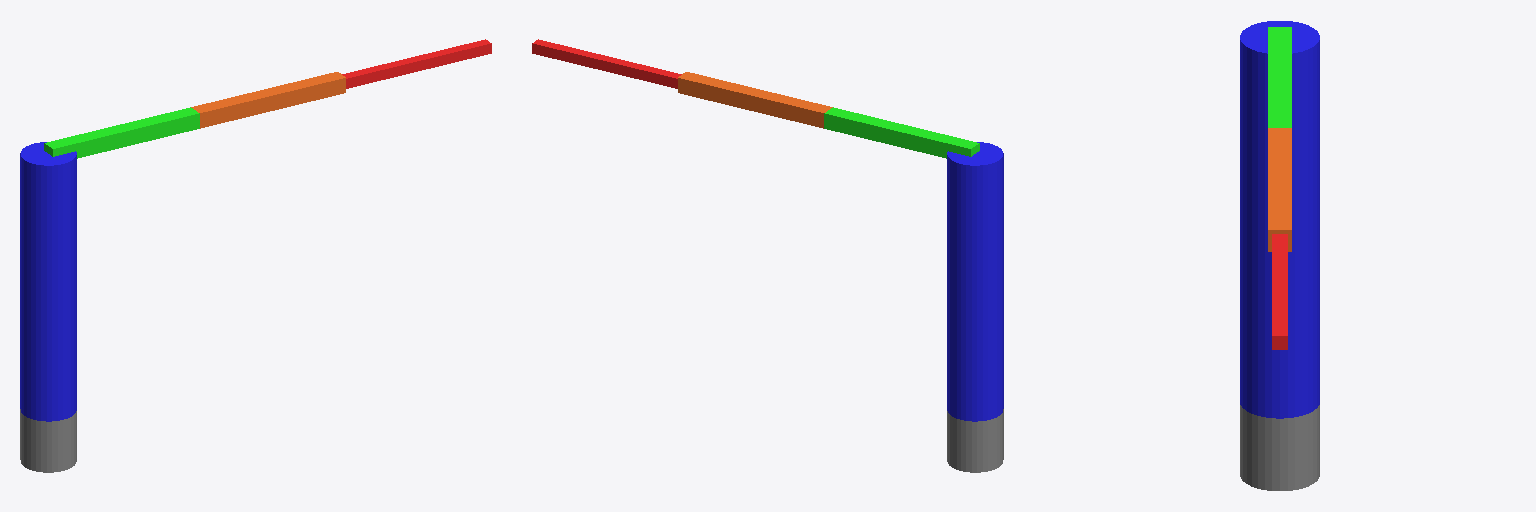
robot.urdf — robot_4dof:
<?xml version="1.0"?>
<robot name="robot_4dof">

  <!-- Link base -->
  <link name="base_link">
    <visual>
      <geometry>
        <cylinder radius="0.05" length="0.1"/>
      </geometry>
      <origin xyz="0 0 0.05" rpy="0 0 0"/>
      <material name="gray"><color rgba="0.6 0.6 0.6 1"/></material>
    </visual>
  </link>

  <!-- Joint 1 -->
  <joint name="joint1" type="revolute">
    <parent link="base_link"/>
    <child link="link1"/>
    <origin xyz="0 0 0.1" rpy="0 0 0"/>
    <axis xyz="0 0 1"/>
    <limit lower="-3.14" upper="3.14" effort="5" velocity="1.0"/>
  </joint>

  <!-- Link 1 (vertical) -->
  <link name="link1">
    <visual>
      <geometry>
        <cylinder radius="0.05" length="0.5"/>
      </geometry>
      <origin xyz="0 0 0.25" rpy="0 0 0"/>
      <material name="blue"><color rgba="0.2 0.2 1 1"/></material>
    </visual>
  </link>

  <!-- Joint 2 -->
  <joint name="joint2" type="revolute">
    <parent link="link1"/>
    <child link="link2"/>
    <origin xyz="0 0 0.5" rpy="1.5708 0 0"/> <!-- α=90° -->
    <axis xyz="0 0 1"/>
    <limit lower="-1.57" upper="1.57" effort="5" velocity="1.0"/>
  </joint>

  <!-- Link 2 -->
  <link name="link2">
    <visual>
      <geometry>
        <box size="0.3 0.03 0.03"/>
      </geometry>
      <origin xyz="0.15 0 0" rpy="0 0 0"/>
      <material name="green"><color rgba="0.2 1 0.2 1"/></material>
    </visual>
  </link>

  <!-- Joint 3 -->
  <joint name="joint3" type="revolute">
    <parent link="link2"/>
    <child link="link3"/>
    <origin xyz="0.3 0 0" rpy="0 0 0"/>
    <axis xyz="0 0 1"/>
    <limit lower="-1.57" upper="1.57" effort="5" velocity="1.0"/>
  </joint>

  <!-- Link 3 -->
  <link name="link3">
    <visual>
      <geometry>
        <box size="0.3 0.03 0.03"/>
      </geometry>
      <origin xyz="0.15 0 0" rpy="0 0 0"/>
      <material name="orange"><color rgba="1 0.5 0.2 1"/></material>
    </visual>
  </link>

  <!-- Joint 4 -->
  <joint name="joint4" type="revolute">
    <parent link="link3"/>
    <child link="link4"/>
    <origin xyz="0.3 0 0" rpy="0 0 0"/>
    <axis xyz="0 0 1"/>
    <limit lower="-3.14" upper="3.14" effort="5" velocity="1.0"/>
  </joint>

  <!-- Link 4 (end-effector) -->
  <link name="link4">
    <visual>
      <geometry>
        <box size="0.3 0.02 0.02"/>
      </geometry>
      <origin xyz="0.15 0 0" rpy="0 0 0"/>
      <material name="red"><color rgba="1 0.2 0.2 1"/></material>
    </visual>
  </link>

</robot>

--- Render facts (derived) ---
3 views of the same robot in one strip: view 1: azimuth 30°, elevation 25°; view 2: azimuth 150°, elevation 25°; view 3: azimuth 270°, elevation 25° (orthographic).
Model robot_4dof with 5 links and 4 joints (4 revolute), rooted at base_link, posed every joint at zero.
Links seen in each view (by area): view 1: link1, link3, link2, base_link, link4; view 2: link1, link3, link2, base_link, link4; view 3: link1, base_link, link3, link2, link4.
Boxes of the visible links, left/top/right/bottom form: link1: left=20, top=142, right=76, bottom=421; link3: left=191, top=72, right=345, bottom=128; link2: left=44, top=107, right=199, bottom=158; base_link: left=20, top=409, right=76, bottom=472; link4: left=342, top=39, right=491, bottom=88; link1: left=947, top=142, right=1003, bottom=421; link3: left=678, top=72, right=832, bottom=128; link2: left=824, top=107, right=979, bottom=158; base_link: left=947, top=409, right=1003, bottom=472; link4: left=532, top=39, right=681, bottom=88; link1: left=1240, top=21, right=1319, bottom=418; base_link: left=1240, top=405, right=1319, bottom=490; link3: left=1268, top=128, right=1291, bottom=251; link2: left=1268, top=27, right=1291, bottom=127; link4: left=1272, top=234, right=1287, bottom=349.
Size in the robot's own frame: 0.95 by 0.1 by 0.615 metres.
Geometry: primitives only (box / cylinder / sphere), no mesh files.